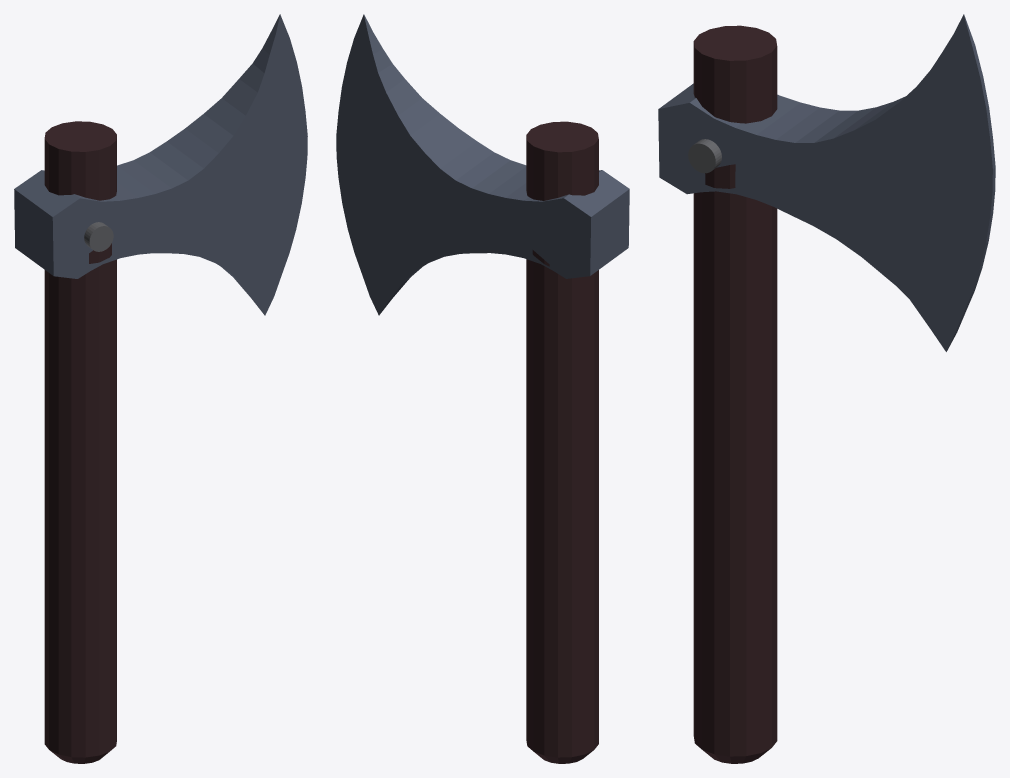
The model's file is machado.fbx.
3 renders of one model, left to right at view 1: azimuth 30°, elevation 25°; view 2: azimuth 150°, elevation 25°; view 3: azimuth 330°, elevation 25°, orthographic. The views are drawn at different scales.
Visible parts, largest first — view 1: Cylinder; view 2: Cylinder; view 3: Cylinder.
Boxes of the visible parts, x1,y1,x2,y2 form: Cylinder: (14,14,307,763); Cylinder: (336,14,629,763); Cylinder: (658,14,995,763).
Size of the model in its own units: 103 by 249 by 28.79.
